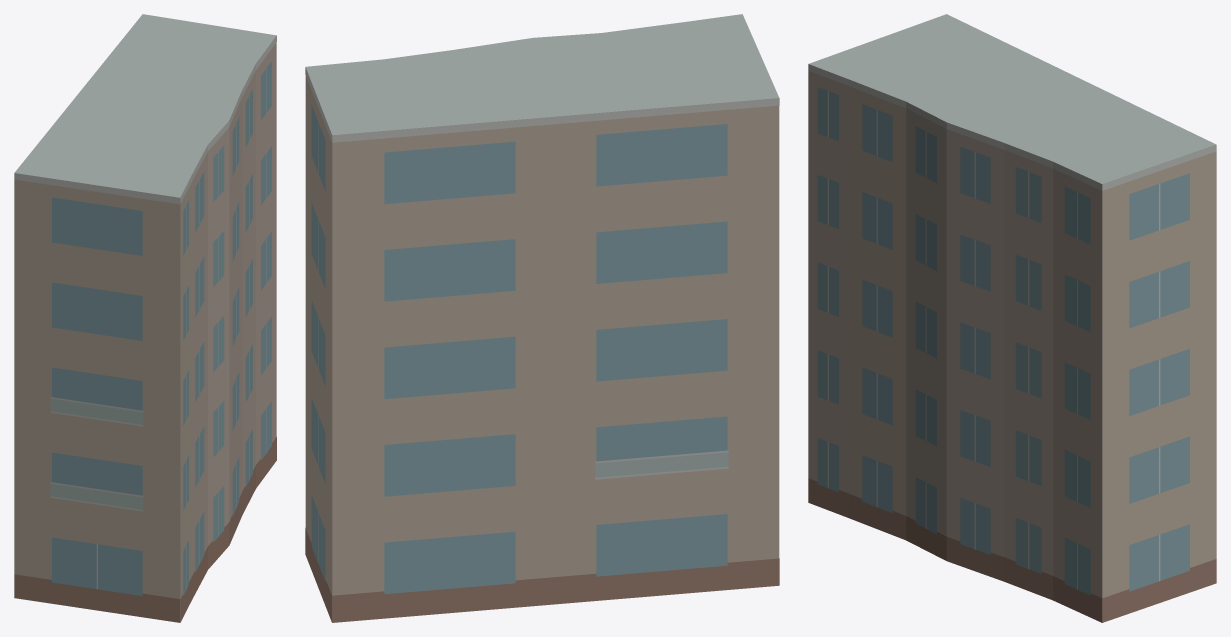
Rendered from survey-upis-32464690.glb.
3 renders of one model, left to right at view 1: azimuth 30°, elevation 25°; view 2: azimuth 150°, elevation 25°; view 3: azimuth 270°, elevation 25°, orthographic. The views are drawn at different scales.
Visible parts, largest first — view 1: survey-upis-32464690.tmp; view 2: survey-upis-32464690.tmp; view 3: survey-upis-32464690.tmp.
Boxes of the visible parts, left/top/right/bottom form: survey-upis-32464690.tmp: left=14, top=14, right=276, bottom=622; survey-upis-32464690.tmp: left=305, top=14, right=779, bottom=622; survey-upis-32464690.tmp: left=808, top=14, right=1216, bottom=622.
Size of the model in its own units: 13.15 by 15.8 by 13.33.
